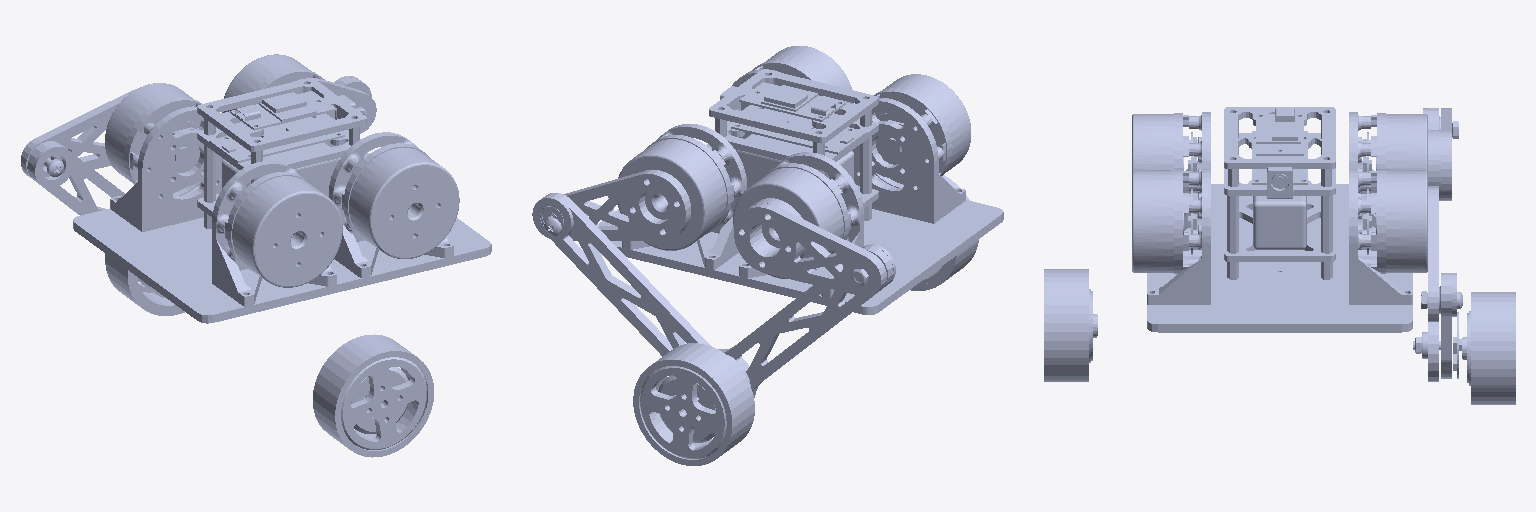
The robot description file, URDF, robot "foc_urdf":
<?xml version="1.0" encoding="utf-8"?>
<!-- This URDF was automatically created by SolidWorks to URDF Exporter! Originally created by [author] ([email redacted]) 
     Commit Version: 1.6.0-4-g7f85cfe  Build Version: 1.6.7995.38578
     For more information, please see http://wiki.ros.org/sw_urdf_exporter -->
<robot
  name="foc_urdf">
  <link
    name="base_link">
    <inertial>
      <origin
        xyz="4.0985E-05 2.3731E-06 0.020422"
        rpy="0 0 0" />
      <mass
        value="0.31081" />
      <inertia
        ixx="0.00013006"
        ixy="1.4002E-09"
        ixz="-5.5833E-08"
        iyy="0.00021208"
        iyz="-1.5623E-09"
        izz="0.00027627"/>
    </inertial>
    <visual>
      <origin
        xyz="0 0 0"
        rpy="0 0 0" />
      <geometry>
        <mesh
          filename="package://foc_urdf/meshes/base_link.STL" />
      </geometry>
      <material
        name="">
        <color
          rgba="0.79216 0.81961 0.93333 1" />
      </material>
    </visual>
    <collision>
      <origin
        xyz="0 0 0"
        rpy="0 0 0" />
      <geometry>
        <mesh
          filename="package://foc_urdf/meshes/base_link.STL" />
      </geometry>
    </collision>
  </link>
  <link
    name="leg01_left">
    <inertial>
      <origin
        xyz="0.0221447038061123 0.00634792285412014 0.0027360300460214"
        rpy="0 0 0" />
      <mass
        value="0.00777564125771859" />
      <inertia
        ixx="7.0948231467366E-07"
        ixy="-6.42299722227134E-07"
        ixz="1.24689061110661E-08"
        iyy="2.76602302702901E-06"
        iyz="3.57429762858066E-09"
        izz="3.42452671783293E-06" />
    </inertial>
    <visual>
      <origin
        xyz="0 0 0"
        rpy="0 0 0" />
      <geometry>
        <mesh
          filename="package://foc_urdf/meshes/leg01_left.STL" />
      </geometry>
      <material
        name="">
        <color
          rgba="0.792156862745098 0.819607843137255 0.933333333333333 1" />
      </material>
    </visual>
    <collision>
      <origin
        xyz="0 0 0"
        rpy="0 0 0" />
      <geometry>
        <mesh
          filename="package://foc_urdf/meshes/leg01_left.STL" />
      </geometry>
    </collision>
  </link>
  <joint
    name="joint01_left"
    type="revolute">
    <origin
      xyz="0.0299960292290539 0.0665000000000001 0.0299999999999997"
      rpy="-1.5707963267949 0 0" />
    <parent
      link="base_link" />
    <child
      link="leg01_left" />
    <axis
      xyz="0 0 -1" />
    <limit
      lower="-1.396"
      upper="1.396"
      effort="20"
      velocity="30" />
    <dynamics damping="0.05" friction="0.0"/>
  </joint>

  <link
    name="leg12_left">
    <inertial>
      <origin
        xyz="-0.0486890458899342 0.0384741223757148 0.00253876564892452"
        rpy="0 0 0" />
      <mass
        value="0.0122831195429796" />
      <inertia
        ixx="5.45666544067798E-06"
        ixy="6.16819268406937E-06"
        ixz="7.49058329392722E-09"
        iyy="8.37933495450643E-06"
        iyz="-5.43762911193335E-09"
        izz="1.37770829198511E-05" />
    </inertial>
    <visual>
      <origin
        xyz="0 0 0"
        rpy="0 0 0" />
      <geometry>
        <mesh
          filename="package://foc_urdf/meshes/leg12_left.STL" />
      </geometry>
      <material
        name="">
        <color
          rgba="0.792156862745098 0.819607843137255 0.933333333333333 1" />
      </material>
    </visual>
    <collision>
      <origin
        xyz="0 0 0"
        rpy="0 0 0" />
      <geometry>
        <mesh
          filename="package://foc_urdf/meshes/leg12_left.STL" />
      </geometry>
    </collision>
  </link>

  <joint
    name="joint12_left"
    type="revolute">
    <origin
      xyz="0.0480642169074416 0.0137779190400616 0.00600000000000019"
      rpy="0 0 0" />
    <parent
      link="leg01_left" />
    <child
      link="leg12_left" />
    <axis
      xyz="0 0 -1" />
    <limit
      lower="-1.57"
      upper="1.57"
      effort="20"
      velocity="30" />
    <dynamics damping="0.05" friction="0.0"/>
  </joint>

  <link
    name="leg23_left">
    <inertial>
      <origin
        xyz="-0.0365995162179509 -0.0355403747852016 -0.00343582660253755"
        rpy="0 0 0" />
      <mass
        value="0.0111561368021954" />
      <inertia
        ixx="6.7007206557668E-06"
        ixy="-6.335870261632E-06"
        ixz="6.97705371621462E-09"
        iyy="7.05630381202052E-06"
        iyz="6.77504699320961E-09"
        izz="1.36906272520062E-05" />
    </inertial>
    <visual>
      <origin
        xyz="0 0 0"
        rpy="0 0 0" />
      <geometry>
        <mesh
          filename="package://foc_urdf/meshes/leg23_left.STL" />
      </geometry>
      <material
        name="">
        <color
          rgba="0.792156862745098 0.819607843137255 0.933333333333333 1" />
      </material>
    </visual>
    <collision>
      <origin
        xyz="0 0 0"
        rpy="0 0 0" />
      <geometry>
        <mesh
          filename="package://foc_urdf/meshes/leg23_left.STL" />
      </geometry>
    </collision>
  </link>

  <joint
    name="joint23_left"
    type="revolute">
    <origin
      xyz="-0.0824127197256137 0.0650626131309483 0"
      rpy="0 0 0" />
    <parent
      link="leg12_left" />
    <child
      link="leg23_left" />
    <axis
      xyz="0 0 -1" />
    <limit
      lower="-1.57"
      upper="1.57"
      effort="20"
      velocity="30" />
    <dynamics damping="0.05" friction="0.0"/>
  </joint>

  <link
    name="tire_left">
    <inertial>
      <origin
        xyz="9.24260668000443E-15 3.60822483003176E-16 0.0133518971401667"
        rpy="0 0 0" />
      <mass
        value="0.0328045076876881" />
      <inertia
        ixx="6.31445786159621E-06"
        ixy="5.29395592033938E-22"
        ixz="9.27216757513767E-22"
        iyy="6.31445786159621E-06"
        iyz="5.35314043413251E-22"
        izz="1.05787727489276E-05" />
    </inertial>
    <visual>
      <origin
        xyz="0 0 0"
        rpy="0 0 0" />
      <geometry>
        <mesh
          filename="package://foc_urdf/meshes/tire_left.STL" />
      </geometry>
      <material
        name="">
        <color
          rgba="0.792156862745098 0.819607843137255 0.933333333333333 1" />
      </material>
    </visual>
    <collision>
      <origin
        xyz="0 0 0"
        rpy="0 0 0" />
      <geometry>
        <mesh
          filename="package://foc_urdf/meshes/tire_left.STL" />
      </geometry>
      <surface>
      <friction>
        <ode>
          <!-- lateral friction -->
          <mu>10.0</mu>
          <mu2>10.0</mu2>
        </ode>
      </friction>
      <!-- rolling and torsional friction to resist slow drift -->
      <rolling_friction>0.1</rolling_friction>
      <torsional_friction>0.1</torsional_friction>
    </surface>
    </collision>
  </link>


  <joint
    name="joint_tire_left"
    type="revolute">
    <origin
      xyz="-0.082412719725648 0.0650626131309466 0.00949999999999991"
      rpy="0 0 0" />
    <parent
      link="leg12_left" />
    <child
      link="tire_left" />
    <axis
      xyz="0 0 -1" />
    <limit
      lower="-1.57"
      upper="1.57"
      effort="20"
      velocity="30" />

  </joint>

  <link
    name="leg04_left">
    <inertial>
      <origin
        xyz="-0.0133993206025407 0.00153499585780711 0.00673551057779115"
        rpy="0 0 0" />
      <mass
        value="0.0104336042175876" />
      <inertia
        ixx="8.25110884381523E-07"
        ixy="2.74179066890273E-07"
        ixz="1.28868060772656E-08"
        iyy="3.18707167027815E-06"
        iyz="-1.47628335314753E-09"
        izz="3.96277069997221E-06" />
    </inertial>
    <visual>
      <origin
        xyz="0 0 0"
        rpy="0 0 0" />
      <geometry>
        <mesh
          filename="package://foc_urdf/meshes/leg04_left.STL" />
      </geometry>
      <material
        name="">
        <color
          rgba="0.792156862745098 0.819607843137255 0.933333333333333 1" />
      </material>
    </visual>
    <collision>
      <origin
        xyz="0 0 0"
        rpy="0 0 0" />
      <geometry>
        <mesh
          filename="package://foc_urdf/meshes/leg04_left.STL" />
      </geometry>
    </collision>
  </link>

  <joint
    name="joint04_left"
    type="revolute">
    <origin
      xyz="-0.030004 0.0665 0.03"
      rpy="-1.5708 0 0" />
    <parent
      link="base_link" />
    <child
      link="leg04_left" />
    <axis
      xyz="0 0 -1" />
    <limit
      lower="-1.57"
      upper="1.57"
      effort="20"
      velocity="30" />
    <dynamics damping="0.05" friction="0.0"/>
  </joint>

  <link
    name="leg1_right">
    <inertial>
      <origin
        xyz="-0.0227474507230983 -0.00363833984385015 -0.00273603004602125"
        rpy="0 0 0" />
      <mass
        value="0.00777564125771859" />
      <inertia
        ixx="5.85847256879408E-07"
        ixy="-3.78157078247889E-07"
        ixz="1.28082938339725E-08"
        iyy="2.88965808482326E-06"
        iyz="2.04861714502811E-09"
        izz="3.42452671783293E-06" />
    </inertial>
    <visual>
      <origin
        xyz="0 0 0"
        rpy="0 0 0" />
      <geometry>
        <mesh
          filename="package://foc_urdf/meshes/leg1_right.STL" />
      </geometry>
      <material
        name="">
        <color
          rgba="0.792156862745098 0.819607843137255 0.933333333333333 1" />
      </material>
    </visual>
    <collision>
      <origin
        xyz="0 0 0"
        rpy="0 0 0" />
      <geometry>
        <mesh
          filename="package://foc_urdf/meshes/leg1_right.STL" />
      </geometry>
    </collision>
  </link>

  <joint
    name="joint01_right"
    type="revolute">
    <origin
      xyz="-0.030004 -0.0665 0.03"
      rpy="-1.5708 0 0" />
    <parent
      link="base_link" />
    <child
      link="leg1_right" />
    <axis
      xyz="0 0 1" />
    <limit
      lower="-1.745"
      upper="1.745"
      effort="20"
      velocity="30" />
    <dynamics damping="0.05" friction="0.0"/>
  </joint>

  <link
    name="leg12_right">
    <inertial>
      <origin
        xyz="0.0418369874536516 0.0458317331448373 -0.00253876564892444"
        rpy="0 0 0" />
      <mass
        value="0.0122831195429796" />
      <inertia
        ixx="7.49888378503167E-06"
        ixy="-6.31226381874333E-06"
        ixz="6.51417091396927E-09"
        iyy="6.33711661015278E-06"
        iyz="6.57588212681798E-09"
        izz="1.37770829198511E-05" />
    </inertial>
    <visual>
      <origin
        xyz="0 0 0"
        rpy="0 0 0" />
      <geometry>
        <mesh
          filename="package://foc_urdf/meshes/leg12_right.STL" />
      </geometry>
      <material
        name="">
        <color
          rgba="0.792156862745098 0.819607843137255 0.933333333333333 1" />
      </material>
    </visual>
    <collision>
      <origin
        xyz="0 0 0"
        rpy="0 0 0" />
      <geometry>
        <mesh
          filename="package://foc_urdf/meshes/leg12_right.STL" />
      </geometry>
    </collision>
  </link>

  <joint
    name="joint12_right"
    type="revolute">
    <origin
      xyz="-0.0493724555181215 -0.00789687508525072 -0.00600000000000008"
      rpy="0 0 0" />
    <parent
      link="leg1_right" />
    <child
      link="leg12_right" />
    <axis
      xyz="0 0 -1" />
    <limit
      lower="-1.57"
      upper="1.57"
      effort="20"
      velocity="30" />
    <dynamics damping="0.05" friction="0.0"/>
  </joint>

  <link
    name="leg23_right">
    <inertial>
      <origin
        xyz="0.0424021601313229 -0.0283672283358802 0.00343582660253751"
        rpy="0 0 0" />
      <mass
        value="0.0111561368021954" />
      <inertia
        ixx="4.46727299752815E-06"
        ixy="5.8618074996111E-06"
        ixz="8.08320764833507E-09"
        iyy="9.28975147025914E-06"
        iyz="-5.40761448641617E-09"
        izz="1.36906272520062E-05" />
    </inertial>
    <visual>
      <origin
        xyz="0 0 0"
        rpy="0 0 0" />
      <geometry>
        <mesh
          filename="package://foc_urdf/meshes/leg23_right.STL" />
      </geometry>
      <material
        name="">
        <color
          rgba="0.792156862745098 0.819607843137255 0.933333333333333 1" />
      </material>
    </visual>
    <collision>
      <origin
        xyz="0 0 0"
        rpy="0 0 0" />
      <geometry>
        <mesh
          filename="package://foc_urdf/meshes/leg23_right.STL" />
      </geometry>
    </collision>
  </link>

  <joint
    name="joint23_right"
    type="revolute">
    <origin
      xyz="0.0708243810933835 0.0775171403157984 0"
      rpy="0 0 0" />
    <parent
      link="leg12_right" />
    <child
      link="leg23_right" />
    <axis
      xyz="0 0 1" />
    <limit
      lower="-1.57"
      upper="1.57"
      effort="20"
      velocity="30" />
    <dynamics damping="0.05" friction="0.0"/>
  </joint>
  
  <link
    name="tire_right">
    <inertial>
      <origin
        xyz="-1.90680804479371E-14 -1.38500322321988E-14 -0.0133518971401667"
        rpy="0 0 0" />
      <mass
        value="0.0328045076876881" />
      <inertia
        ixx="6.31445786159621E-06"
        ixy="-1.05879118406788E-22"
        ixz="-6.24938907378752E-22"
        iyy="6.31445786159621E-06"
        iyz="-1.0241673981824E-20"
        izz="1.05787727489276E-05" />
    </inertial>
    <visual>
      <origin
        xyz="0 0 0"
        rpy="0 0 0" />
      <geometry>
        <mesh
          filename="package://foc_urdf/meshes/tire_right.STL" />
      </geometry>
      <material
        name="">
        <color
          rgba="0.792156862745098 0.819607843137255 0.933333333333333 1" />
      </material>
    </visual>
    <collision>
      <origin
        xyz="0 0 0"
        rpy="0 0 0" />
      <geometry>
        <mesh
          filename="package://foc_urdf/meshes/tire_right.STL" />
      </geometry>
         <surface>
      <friction>
        <ode>
          <!-- lateral friction -->
          <mu>10.0</mu>
          <mu2>10.0</mu2>
        </ode>
      </friction>
      <!-- rolling and torsional friction to resist slow drift -->
      <rolling_friction>0.1</rolling_friction>
      <torsional_friction>0.1</torsional_friction>
    </surface>
    </collision>
  </link>

  <joint
    name="joint_tire_right"
    type="revolute">
    <origin
      xyz="0.0708243810933964 0.0775171403158044 -0.00949999999999991"
      rpy="0 0 0" />
    <parent
      link="leg12_right" />
    <child
      link="tire_right" />
    <axis
      xyz="0 0 1" />
    <limit
      lower="-1.57"
      upper="1.57"
      effort="20"
      velocity="30" />

  </joint>

  <link
    name="leg04_right">
    <inertial>
      <origin
        xyz="0 0 0"
        rpy="0 0 0" />
      <mass
        value="0.01" />
      <inertia
        ixx="0"
        ixy="0"
        ixz="0"
        iyy="0"
        iyz="0"
        izz="0" />
    </inertial>
    <visual>
      <origin
        xyz="0 0 0"
        rpy="0 0 0" />
      <geometry>
        <mesh
          filename="package://foc_urdf/meshes/leg04_right.STL" />
      </geometry>
      <material
        name="">
        <color
          rgba="1 1 1 1" />
      </material>
    </visual>
    <collision>
      <origin
        xyz="0 0 0"
        rpy="0 0 0" />
      <geometry>
        <mesh
          filename="package://foc_urdf/meshes/leg04_right.STL" />
      </geometry>
    </collision>
  </link>

  <joint
    name="joint04_right"
    type="revolute">
    <origin
      xyz="0.029996029229054 -0.0664999999999999 0.0300000000000001"
      rpy="-1.5707963267949 0 0" />
    <parent
      link="base_link" />
    <child
      link="leg04_right" />
    <axis
      xyz="0 0 1" />
    <limit
      lower="-1.396"
      upper="1.396"
      effort="20"
      velocity="30" />
    <dynamics damping="0.05" friction="0.0"/>
  </joint>

  <gazebo>
    <joint name="joint43_left" type="revolute">
      <pose relative_to="leg04_left">-0.0496751074323783 0.00569066793808726 0.00600000000000021 0 0 0</pose>
      <parent>leg04_left</parent>
      <child>leg23_left</child>
      <axis>
        <xyz>0 0 1</xyz>
        <limit>
          <lower>0.698</lower>
          <upper>2.09</upper>
          <effort>20</effort>
          <velocity>30</velocity>
        </limit>
      </axis>
      <dynamics>
        <friction>0.0</friction>
        <damping>0.1</damping>
      </dynamics>
    </joint>
  </gazebo>

  <gazebo>
    <joint name="joint43_right" type="revolute">
      <pose relative_to="joint04_right">0.0487216928434121 0.0112337280754352 -0.00600000000000014 0 0 0</pose>
      <parent>leg04_right</parent>
      <child>leg23_right</child>
      <axis>
        <xyz>0 0 1</xyz>
        <limit>
          <lower>-2.443</lower>
          <upper>-1.047</upper>
          <effort>20</effort>
          <velocity>30</velocity>
        </limit>
      </axis>
      <dynamics>
        <friction>0.0</friction>
        <damping>0.1</damping>
      </dynamics>
    </joint>
  </gazebo>

  <transmission name="trans_joint01_left">
    <type>transmission_interface/SimpleTransmission</type>
    <joint name="joint01_left">
      <hardwareInterface>hardware_interface/EffortJointInterface</hardwareInterface>
    </joint>
    <actuator name="motor_joint01_left">
      <hardwareInterface>hardware_interface/EffortJointInterface</hardwareInterface>
      <mechanicalReduction>1</mechanicalReduction>
    </actuator>
  </transmission>

  <transmission name="trans_joint01_right">
    <type>transmission_interface/SimpleTransmission</type>
    <joint name="joint01_right">
      <hardwareInterface>hardware_interface/EffortJointInterface</hardwareInterface>
    </joint>
    <actuator name="motor_joint01_right">
      <hardwareInterface>hardware_interface/EffortJointInterface</hardwareInterface>
      <mechanicalReduction>1</mechanicalReduction>
    </actuator>
  </transmission>

  <transmission name="trans_joint04_left">
    <type>transmission_interface/SimpleTransmission</type>
    <joint name="joint04_left">
      <hardwareInterface>hardware_interface/EffortJointInterface</hardwareInterface>
    </joint>
    <actuator name="motor_joint04_left">
      <hardwareInterface>hardware_interface/EffortJointInterface</hardwareInterface>
      <mechanicalReduction>1</mechanicalReduction>
    </actuator>
  </transmission>

  <transmission name="trans_joint04_right">
    <type>transmission_interface/SimpleTransmission</type>
    <joint name="joint04_right">
      <hardwareInterface>hardware_interface/EffortJointInterface</hardwareInterface>
    </joint>
    <actuator name="motor_joint04_right">
      <hardwareInterface>hardware_interface/EffortJointInterface</hardwareInterface>
      <mechanicalReduction>1</mechanicalReduction>
    </actuator>
  </transmission>

  <transmission name="trans_joint_tire_left">
    <type>transmission_interface/SimpleTransmission</type>
    <joint name="joint_tire_left">
      <hardwareInterface>hardware_interface/EffortJointInterface</hardwareInterface>
    </joint>
    <actuator name="motor_joint_tire_left">
      <hardwareInterface>hardware_interface/EffortJointInterface</hardwareInterface>
      <mechanicalReduction>1</mechanicalReduction>
    </actuator>
  </transmission>

  <transmission name="trans_joint_tire_right">
    <type>transmission_interface/SimpleTransmission</type>
    <joint name="joint_tire_right">
      <hardwareInterface>hardware_interface/EffortJointInterface</hardwareInterface>
    </joint>
    <actuator name="motor_joint_tire_right">
      <hardwareInterface>hardware_interface/EffortJointInterface</hardwareInterface>
      <mechanicalReduction>1</mechanicalReduction>
    </actuator>
  </transmission>

  <gazebo>
    <plugin name="gazebo_ros_control" filename="libgazebo_ros_control.so">
      <robotNamespace>balance_robot/</robotNamespace>
    </plugin>
  </gazebo>

  <gazebo>
    <plugin name="imu_plugin" filename="libgazebo_ros_imu.so">
      <alwaysOn>true</alwaysOn>
      <updateRate>10.0</updateRate>
      <gaussianNoise>0.0001</gaussianNoise>
      <bodyName>base_link</bodyName>
      <frameName>base_link</frameName>
      <topicName>imu/data</topicName>
    </plugin>
  </gazebo>

  <gazebo reference="tire_left">
    <mu1>1.0</mu1>
    <mu2>1.0</mu2>
    <!-- <kp>10000000.0</kp>
    <kd>1.0</kd> -->
  </gazebo>
  <gazebo reference="tire_right">
    <mu1>1.0</mu1>
    <mu2>1.0</mu2>
    <!-- <kp>10000000.0</kp>
    <kd>1.0</kd> -->
  </gazebo>


<!-- <gazebo>
  <plugin name="gazebo_ros_control" filename="libgazebo_ros_control.so">
    <ros>
      <namespace>/</namespace>
      <argument>joint_states:=joint_states</argument>
    </ros>
    <robotNamespace>/</robotNamespace>
    <robotParam>robot_description</robotParam>
    <updateRate>100</updateRate>
  </plugin>
</gazebo> -->

</robot>

--- What the picture shows (computed from the rendered views, not written in the file) ---
The picture shows the robot from 3 angles, left to right: view 1: azimuth 30°, elevation 25°; view 2: azimuth 150°, elevation 25°; view 3: azimuth 270°, elevation 25°; orthographic projection.
Model foc_urdf with 11 links and 10 joints (10 revolute), rooted at base_link, posed all joints at 0.
Links seen in each view (by area): view 1: base_link, tire_right, leg23_left, leg04_left, tire_left, leg01_left; view 2: base_link, tire_left, leg04_left, leg12_left, leg01_left, leg23_left, tire_right; view 3: base_link, tire_right, tire_left, leg12_left, leg04_left, leg01_left, leg23_left.
Link boxes in pixels (bbox=[...]): base_link: bbox=[73, 54, 491, 323]; tire_right: bbox=[313, 334, 433, 457]; leg23_left: bbox=[27, 141, 124, 215]; leg04_left: bbox=[21, 89, 135, 177]; tire_left: bbox=[105, 254, 184, 315]; leg01_left: bbox=[328, 81, 376, 133]; base_link: bbox=[598, 46, 1003, 314]; tire_left: bbox=[633, 343, 754, 465]; leg04_left: bbox=[734, 198, 886, 296]; leg12_left: bbox=[532, 193, 750, 385]; leg01_left: bbox=[544, 170, 690, 240]; leg23_left: bbox=[718, 244, 895, 397]; tire_right: bbox=[910, 175, 978, 290]; base_link: bbox=[1132, 107, 1427, 332]; tire_right: bbox=[1044, 269, 1097, 381]; tire_left: bbox=[1462, 292, 1515, 404]; leg12_left: bbox=[1413, 273, 1461, 378]; leg04_left: bbox=[1428, 108, 1451, 200]; leg01_left: bbox=[1421, 186, 1462, 321]; leg23_left: bbox=[1423, 108, 1458, 381].
Bounding box of the posed robot: 0.1777 × 0.212 × 0.1373 m (x, y, z).
7 mesh visuals loaded from 11 distinct referenced files (7 binary STL); not drawn: 4 (reference not matched to a file when rendering).